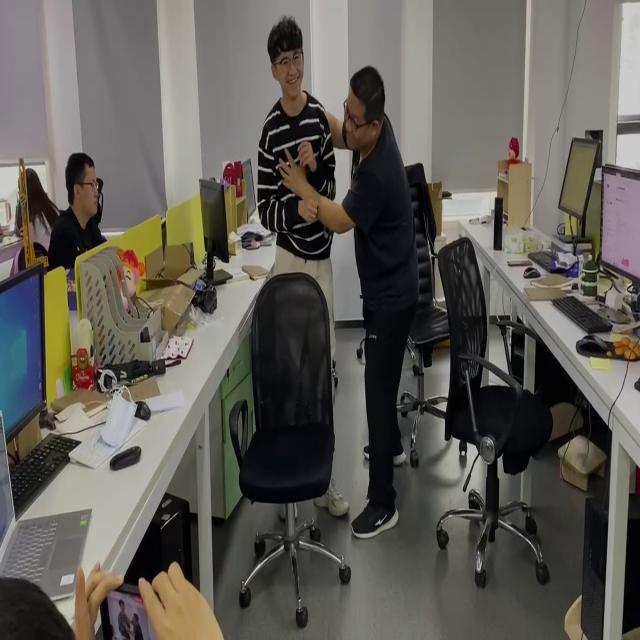fight: (260, 9, 427, 540)
